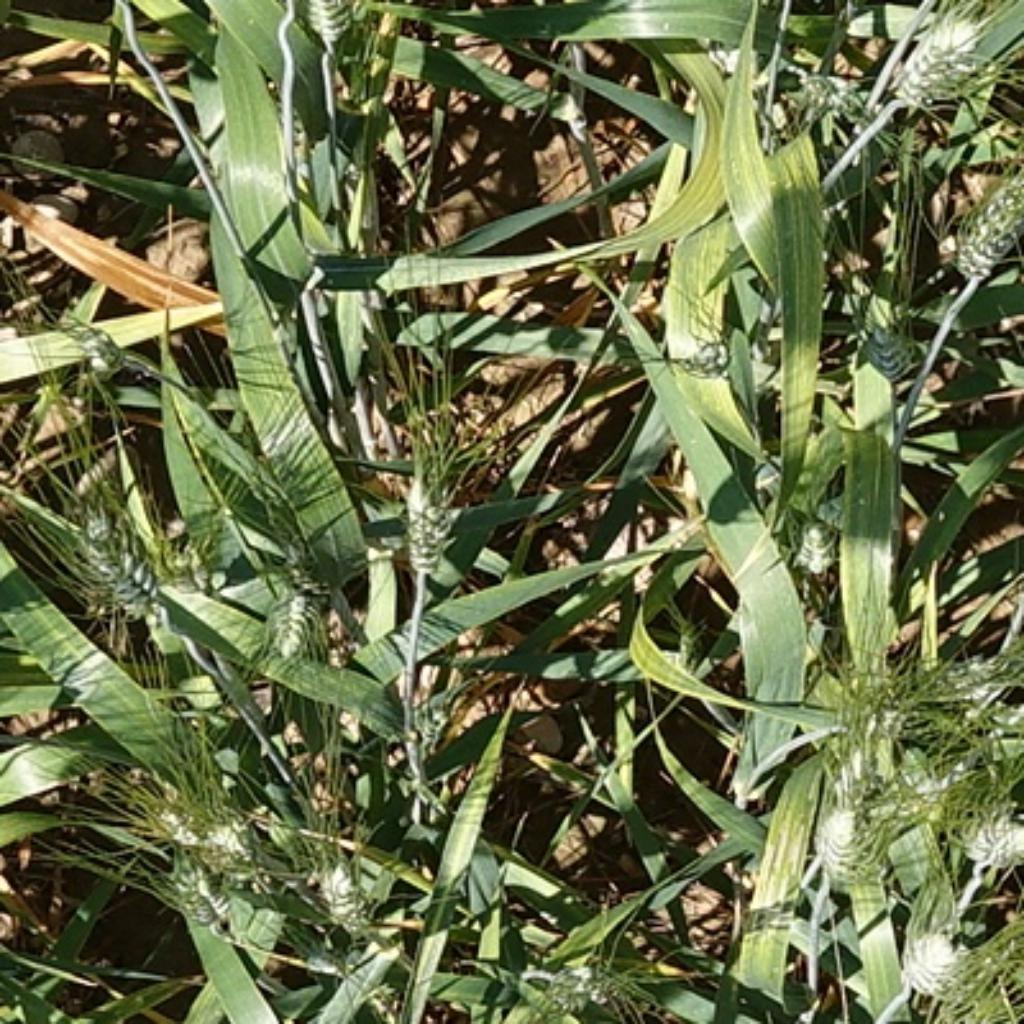0-0: (38, 468, 171, 629), (130, 793, 263, 875), (294, 826, 384, 947), (514, 944, 645, 1021), (946, 159, 1024, 279), (811, 742, 870, 888), (389, 458, 463, 573), (655, 307, 757, 384), (890, 737, 975, 826), (847, 291, 931, 378), (890, 916, 975, 993), (148, 855, 227, 935), (797, 56, 886, 122), (893, 43, 976, 110), (949, 793, 1024, 867), (791, 504, 857, 586), (256, 573, 325, 650), (289, 2, 371, 61)
